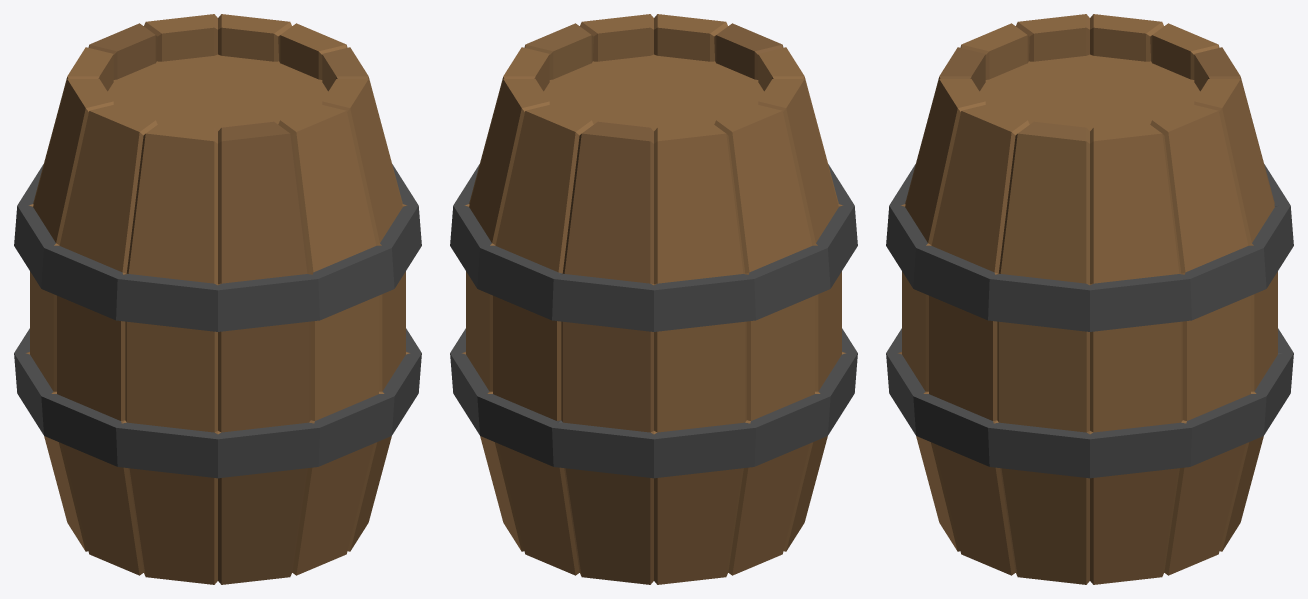
File: Barrel.fbx
3 views of the same model, side by side, from view 1: azimuth 30°, elevation 25°; view 2: azimuth 150°, elevation 25°; view 3: azimuth 270°, elevation 25° (orthographic).
Parts seen in each view (by area): view 1: Barrel.002; view 2: Barrel.002; view 3: Barrel.002.
Boxes of the visible parts, bbox=[...] form: Barrel.002: bbox=[14, 14, 421, 584]; Barrel.002: bbox=[450, 14, 857, 584]; Barrel.002: bbox=[886, 14, 1293, 584].
Bounding box in the file's own units: 100 × 120 × 100.
